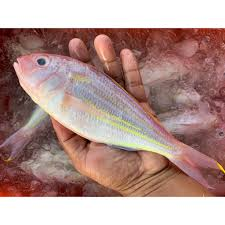Ikan Kerisi: (9, 46, 225, 172)
